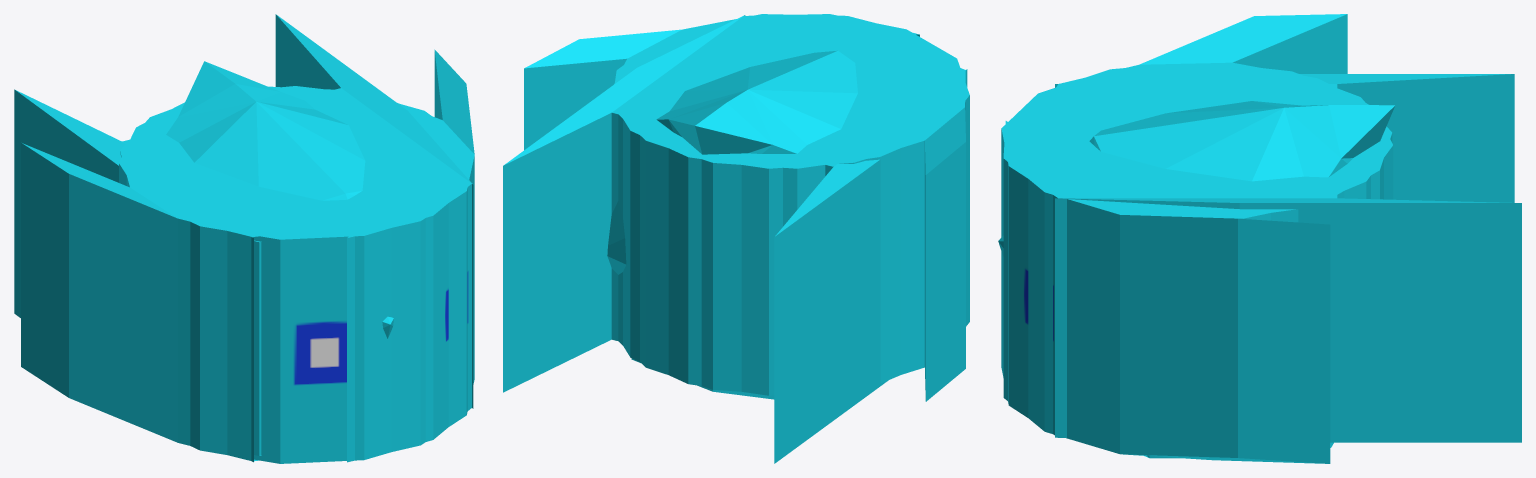
Rendered from player.obj.
3 renders of one model, left to right at view 1: azimuth 30°, elevation 25°; view 2: azimuth 150°, elevation 25°; view 3: azimuth 270°, elevation 25°, orthographic. The views are drawn at different scales.
Visible parts, largest first — view 1: Cube, Cube.001; view 2: Cube, Cube.001; view 3: Cube, Cube.001.
Boxes of the visible parts, x1=… form: Cube: x1=14, y1=14, x2=474, y2=463; Cube.001: x1=166, y1=61, x2=393, y2=338; Cube: x1=503, y1=14, x2=969, y2=463; Cube.001: x1=607, y1=50, x2=857, y2=399; Cube: x1=1001, y1=14, x2=1521, y2=463; Cube.001: x1=998, y1=101, x2=1395, y2=447.
Bounding box in the file's own units: 1.31 × 0.8504 × 1.37.
